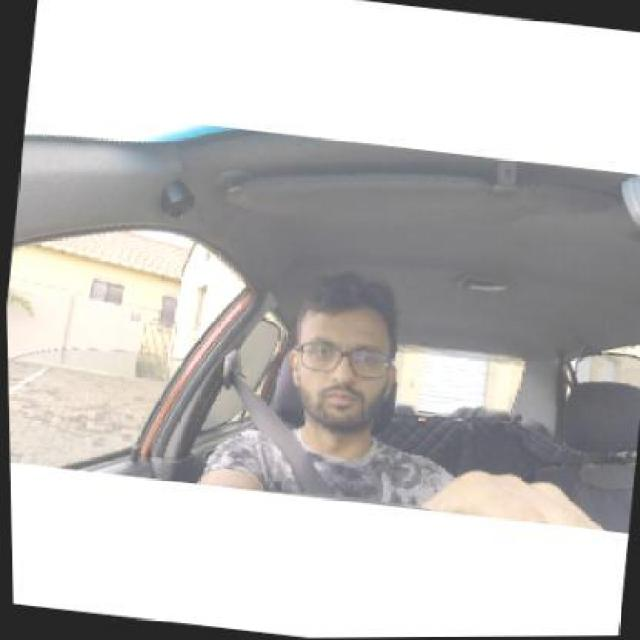person: (287, 266, 403, 446)
